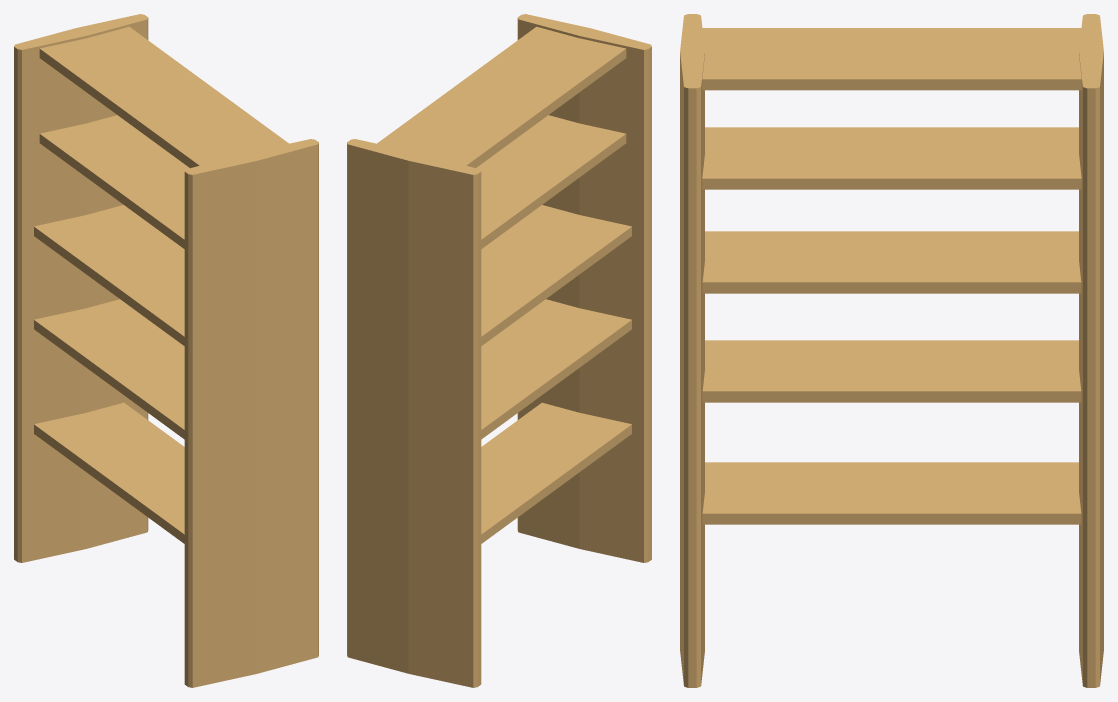
Rendered from Shelves.fbx.
3 renders of one model, left to right at view 1: azimuth 30°, elevation 25°; view 2: azimuth 150°, elevation 25°; view 3: azimuth 270°, elevation 25°, orthographic. The views are drawn at different scales.
Visible parts, largest first — view 1: Shelves; view 2: Shelves; view 3: Shelves.
Boxes of the visible parts, x1=… form: Shelves: x1=14, y1=14, x2=318, y2=687; Shelves: x1=347, y1=14, x2=651, y2=687; Shelves: x1=680, y1=14, x2=1103, y2=687.
Size of the model in its own units: 0.4195 by 1.58 by 1.01.
